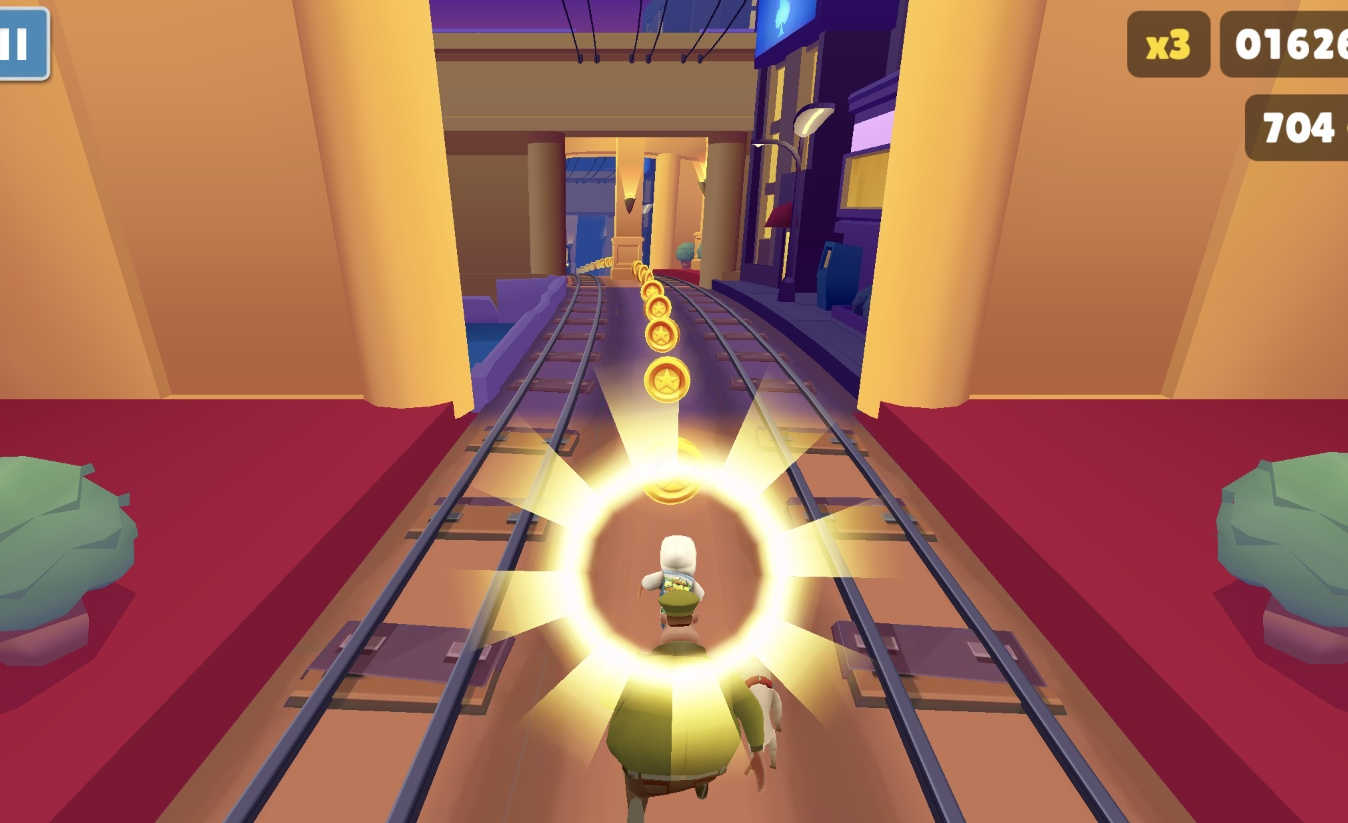pillar: (620, 0, 725, 393)
